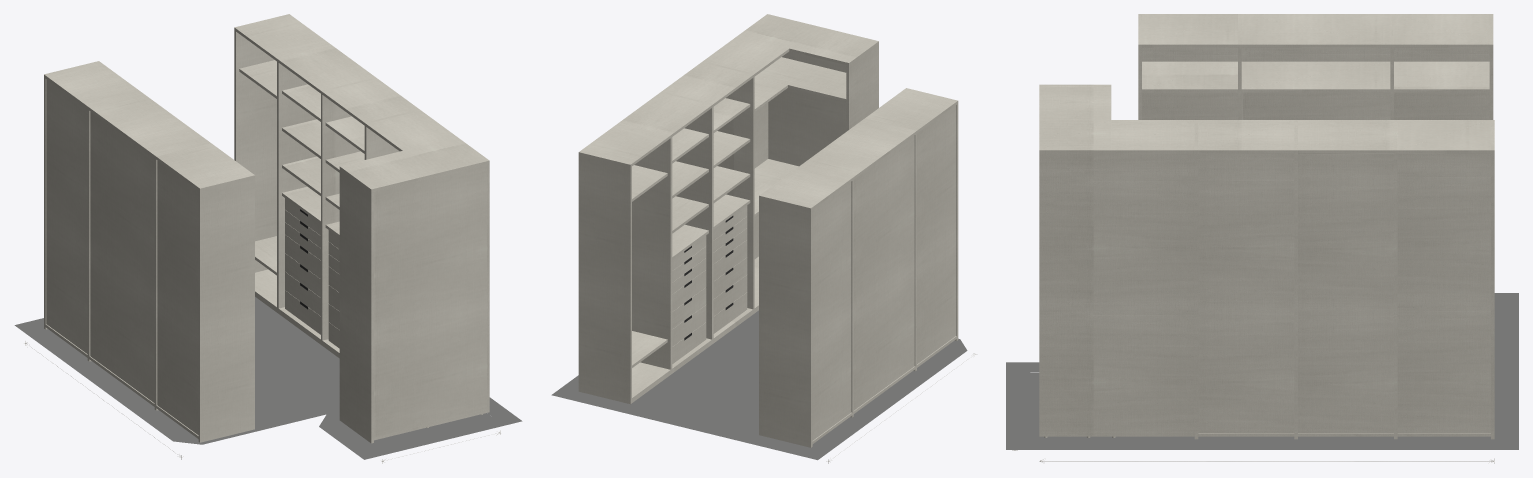
File: C2-D1-PC-Drawers-TI.obj
The picture shows the model from 3 angles, left to right: view 1: azimuth 30°, elevation 25°; view 2: azimuth 150°, elevation 25°; view 3: azimuth 270°, elevation 25°; orthographic projection. The views are drawn at different scales.
Parts seen in each view (by area): view 1: Mesh2 Model, Mesh8 Model, Mesh5 Model, Mesh6 Model, Mesh4 Model; view 2: Mesh2 Model, Mesh8 Model, Mesh5 Model, Mesh6 Model, Mesh4 Model; view 3: Mesh2 Model, Mesh8 Model, Mesh10 Model.
Boxes of the visible parts, x1,y1,x2,y2 form: Mesh2 Model: [44, 14, 492, 447]; Mesh8 Model: [14, 318, 522, 459]; Mesh5 Model: [282, 156, 320, 195]; Mesh6 Model: [282, 119, 320, 158]; Mesh4 Model: [282, 84, 320, 121]; Mesh2 Model: [578, 14, 959, 448]; Mesh8 Model: [551, 339, 967, 460]; Mesh5 Model: [672, 196, 708, 233]; Mesh6 Model: [672, 161, 708, 198]; Mesh4 Model: [672, 128, 708, 163]; Mesh2 Model: [1030, 14, 1494, 439]; Mesh8 Model: [1006, 293, 1518, 449]; Mesh10 Model: [1142, 61, 1237, 92].
Size of the model in its own units: 122 by 109 by 166.
7 materials, 1 textured.
